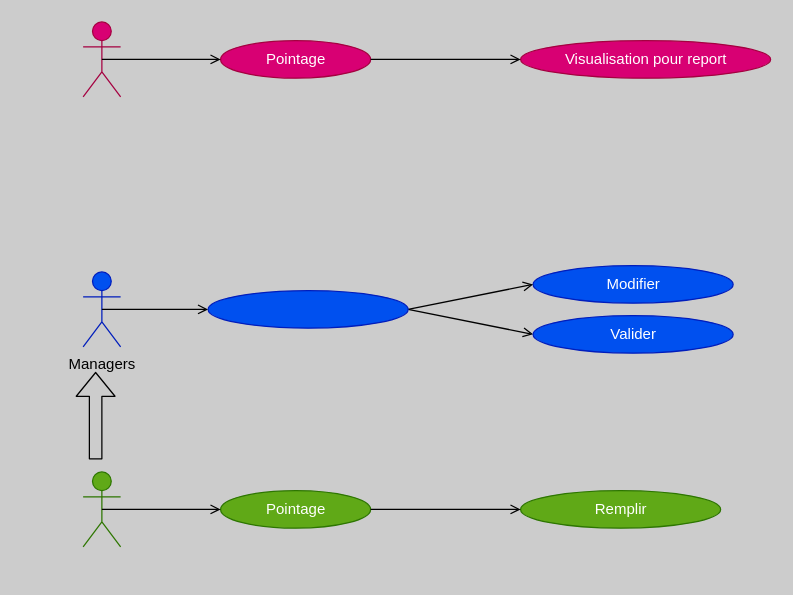
The diagram is 793 pixels wide and 595 high, and some of its shapes have lost their labels. The shapes that lost their labels are listed below. From the top down, each one's centre as x and y in pixels, then its label:
the point at 101,59: Assistantes de Direction
the point at 307,308: Pointage Collaborateur
the point at 101,509: Salariés
